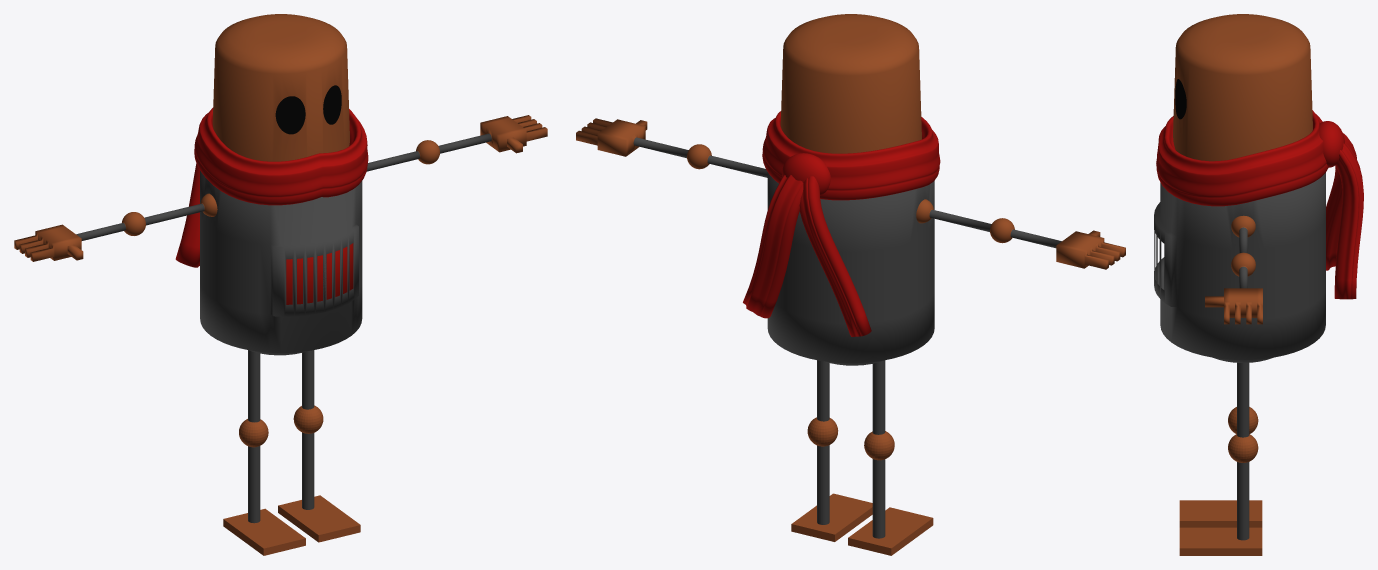
The model's file is MAXModel.obj.
3 views of the same model, side by side, from view 1: azimuth 30°, elevation 25°; view 2: azimuth 150°, elevation 25°; view 3: azimuth 270°, elevation 25° (orthographic). The views are drawn at different scales.
Parts seen in each view (by area): view 1: Cylinder.006_Cylinder.019, Cylinder.000_Cylinder.014, BezierCircle_CUBezierCircle, Cylinder.007_Cylinder.020, Cylinder.001_Cylinder.002, Cylinder.003_Cylinder.016, Cylinder.002_Cylinder.015, Cylinder_Cylinder.021, Cylinder.004_Cylinder.017; view 2: Cylinder.006_Cylinder.019, Cylinder.000_Cylinder.014, BezierCircle_CUBezierCircle, Cylinder.007_Cylinder.020, Cylinder.001_Cylinder.002, Cylinder.003_Cylinder.016, Cylinder.002_Cylinder.015; view 3: Cylinder.006_Cylinder.019, Cylinder.000_Cylinder.014, BezierCircle_CUBezierCircle, Cylinder.001_Cylinder.002, Cylinder.002_Cylinder.015, Cylinder.007_Cylinder.020, Cylinder.005_Cylinder.018.
Boxes of the visible parts, left/top/right/bottom form: Cylinder.006_Cylinder.019: left=200, top=170, right=362, bottom=355; Cylinder.000_Cylinder.014: left=212, top=14, right=349, bottom=161; BezierCircle_CUBezierCircle: left=175, top=107, right=368, bottom=267; Cylinder.007_Cylinder.020: left=223, top=350, right=305, bottom=555; Cylinder.001_Cylinder.002: left=278, top=350, right=360, bottom=542; Cylinder.003_Cylinder.016: left=14, top=193, right=217, bottom=261; Cylinder.002_Cylinder.015: left=366, top=115, right=547, bottom=171; Cylinder_Cylinder.021: left=286, top=243, right=353, bottom=304; Cylinder.004_Cylinder.017: left=275, top=96, right=305, bottom=134; Cylinder.006_Cylinder.019: left=767, top=172, right=934, bottom=365; Cylinder.000_Cylinder.014: left=780, top=14, right=921, bottom=153; BezierCircle_CUBezierCircle: left=743, top=111, right=940, bottom=336; Cylinder.007_Cylinder.020: left=848, top=360, right=933, bottom=555; Cylinder.001_Cylinder.002: left=791, top=360, right=872, bottom=541; Cylinder.003_Cylinder.016: left=916, top=199, right=1125, bottom=269; Cylinder.002_Cylinder.015: left=576, top=118, right=767, bottom=177; Cylinder.006_Cylinder.019: left=1154, top=173, right=1325, bottom=362; Cylinder.000_Cylinder.014: left=1173, top=14, right=1312, bottom=161; BezierCircle_CUBezierCircle: left=1156, top=110, right=1363, bottom=299; Cylinder.001_Cylinder.002: left=1179, top=363, right=1262, bottom=555; Cylinder.002_Cylinder.015: left=1205, top=215, right=1262, bottom=324; Cylinder.007_Cylinder.020: left=1179, top=407, right=1262, bottom=527; Cylinder.005_Cylinder.018: left=1175, top=79, right=1186, bottom=119.
Size of the model in its own units: 3.66 by 3.33 by 1.27.
